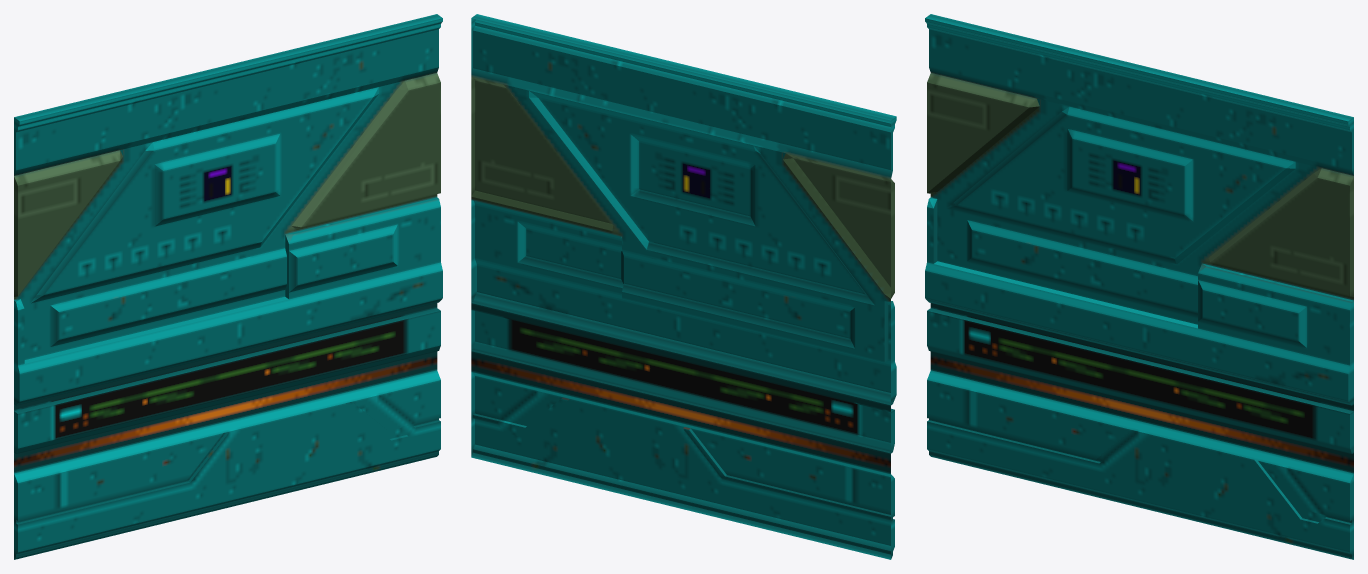
The model's file is med2_3.fbx.
The picture shows the model from 3 angles, left to right: view 1: azimuth 30°, elevation 25°; view 2: azimuth 150°, elevation 25°; view 3: azimuth 330°, elevation 25°; orthographic projection.
Visible parts, largest first — view 1: med2_3_mesh; view 2: med2_3_mesh; view 3: med2_3_mesh.
Boxes of the visible parts, x1,y1,x2,y2 form: med2_3_mesh: (14, 14, 442, 559); med2_3_mesh: (471, 14, 896, 559); med2_3_mesh: (925, 14, 1353, 559).
Size of the model in its own units: 256 by 256 by 6.
